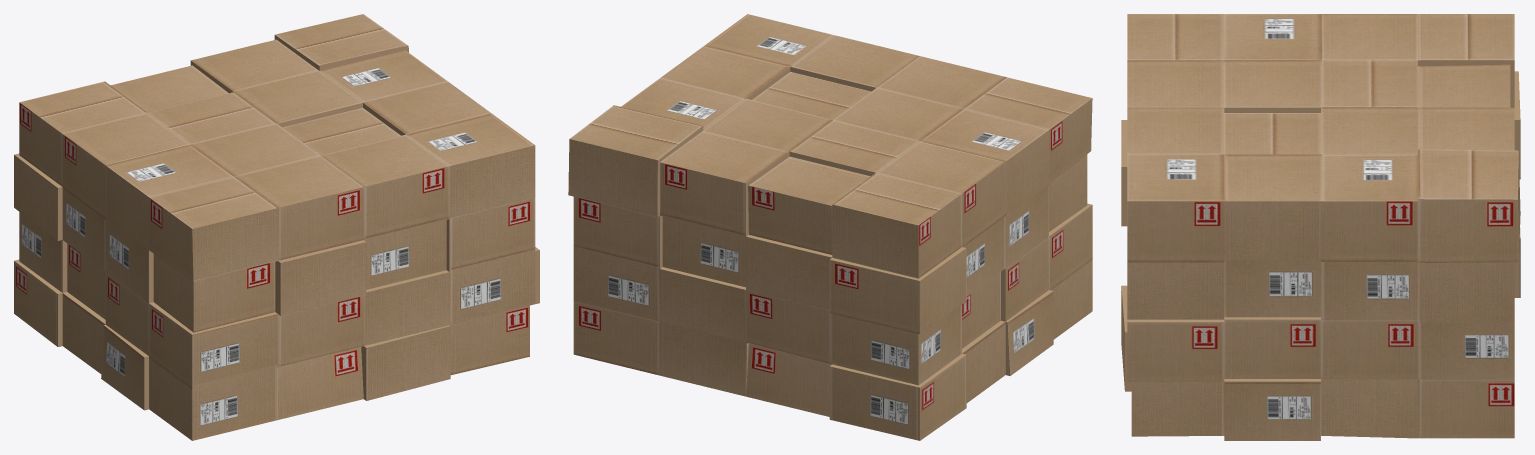
The model's file is Box_PalletGroup-transformed.glb.
The picture shows the model from 3 angles, left to right: view 1: azimuth 30°, elevation 25°; view 2: azimuth 150°, elevation 25°; view 3: azimuth 270°, elevation 25°; orthographic projection. The views are drawn at different scales.
Parts seen in each view (by area): view 1: Box_PalletGroup; view 2: Box_PalletGroup; view 3: Box_PalletGroup.
Part boxes in pixels (box(x1,y1,x2,y2)): Box_PalletGroup: box(14, 14, 539, 440); Box_PalletGroup: box(568, 14, 1092, 440); Box_PalletGroup: box(1121, 14, 1520, 440).
Size of the model in its own units: 2.74 by 1.61 by 2.4.
Materials: 1 (1 with a texture image).
